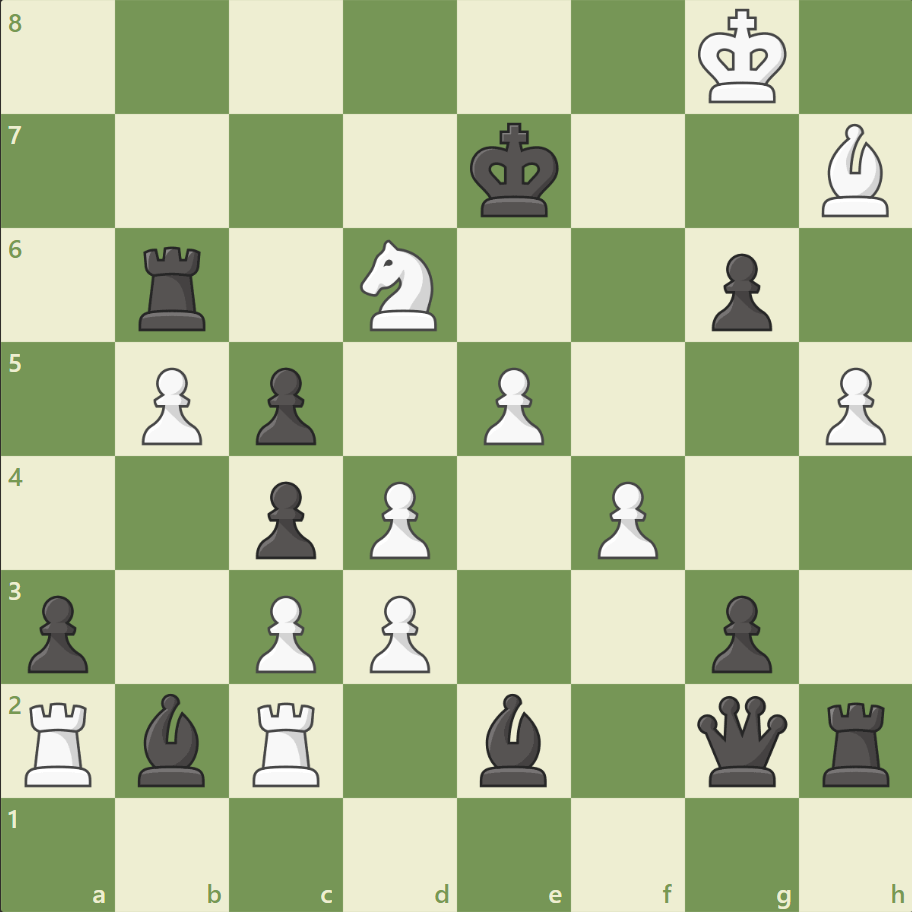B: (812, 120, 896, 222)
K: (692, 4, 792, 112)
N: (351, 234, 449, 337)
P: (133, 359, 208, 450), (474, 359, 549, 450), (247, 586, 322, 677), (815, 359, 889, 450), (361, 473, 435, 564), (588, 473, 662, 564), (361, 586, 435, 677)
R: (19, 693, 102, 790), (246, 693, 329, 790)
b: (131, 687, 215, 790), (471, 687, 555, 790)
k: (465, 117, 565, 225)
p: (701, 246, 776, 337), (247, 359, 322, 450), (247, 473, 322, 564), (20, 586, 95, 677), (701, 586, 776, 677)
q: (691, 690, 790, 789)
r: (814, 693, 897, 790), (133, 239, 215, 336)
